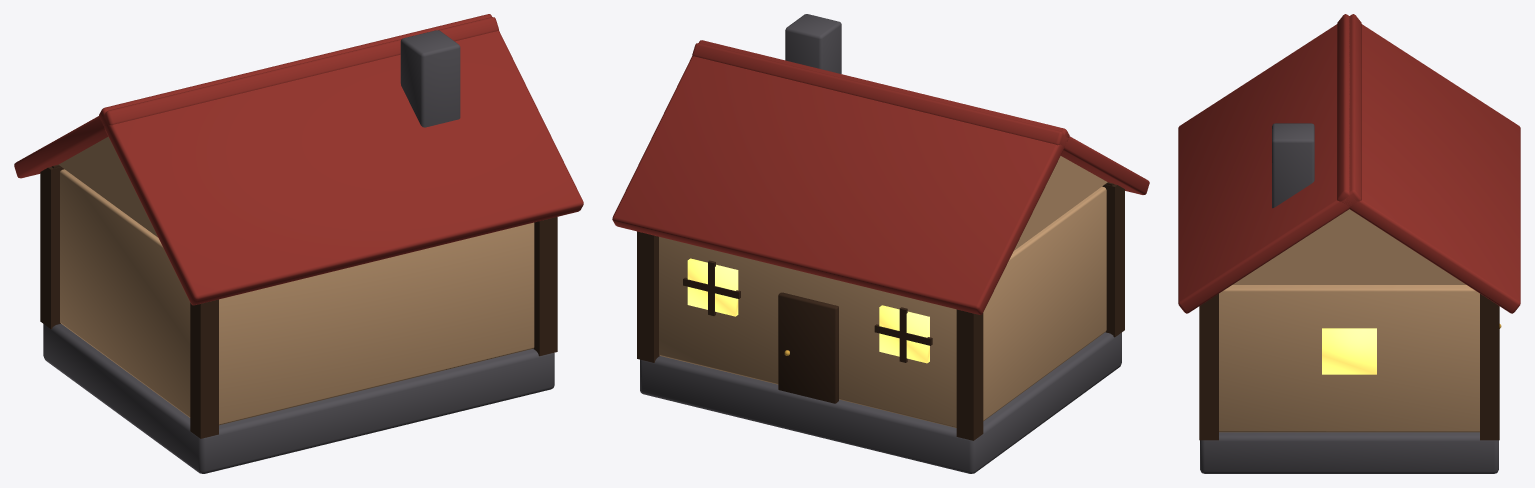
File: house_a.glb
The picture shows the model from 3 angles, left to right: view 1: azimuth 30°, elevation 25°; view 2: azimuth 150°, elevation 25°; view 3: azimuth 270°, elevation 25°; orthographic projection. The views are drawn at different scales.
Parts seen in each view (by area): view 1: house_a; view 2: house_a; view 3: house_a.
Part boxes in pixels (left/top/right/bottom): house_a: left=14, top=14, right=583, bottom=473; house_a: left=612, top=14, right=1149, bottom=473; house_a: left=1178, top=14, right=1520, bottom=473.
Size of the model in its own units: 6.9 by 5.6 by 5.61.
